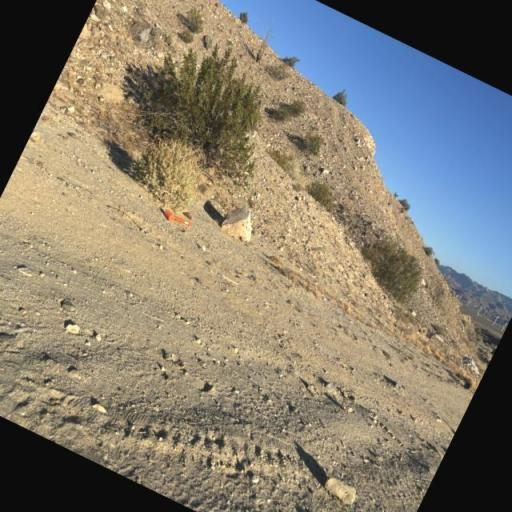mallet: (160, 205, 196, 233)
